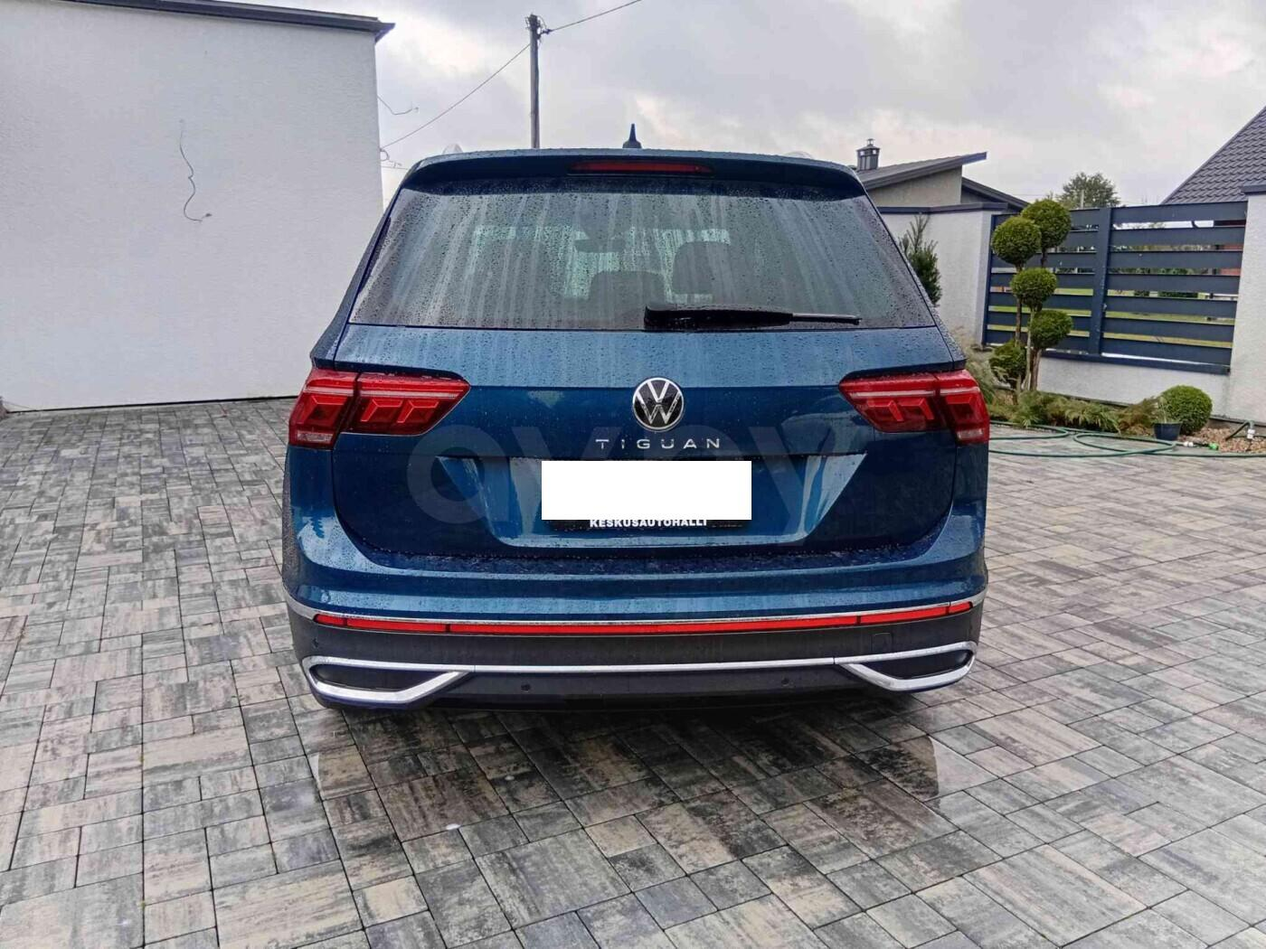Tiguan_2020-2024: (276, 133, 993, 717)
